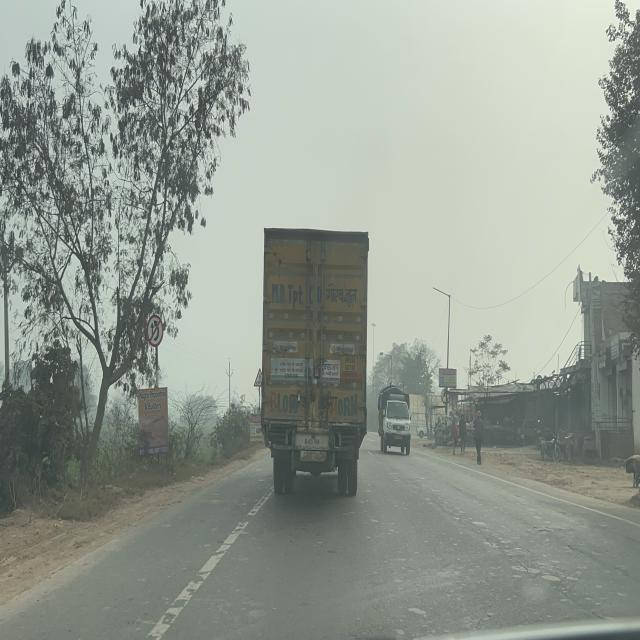OVERTAKING_PROHIBITED: (146, 314, 164, 347)
PEDESTRIAN_CROSSING: (254, 368, 262, 388)
